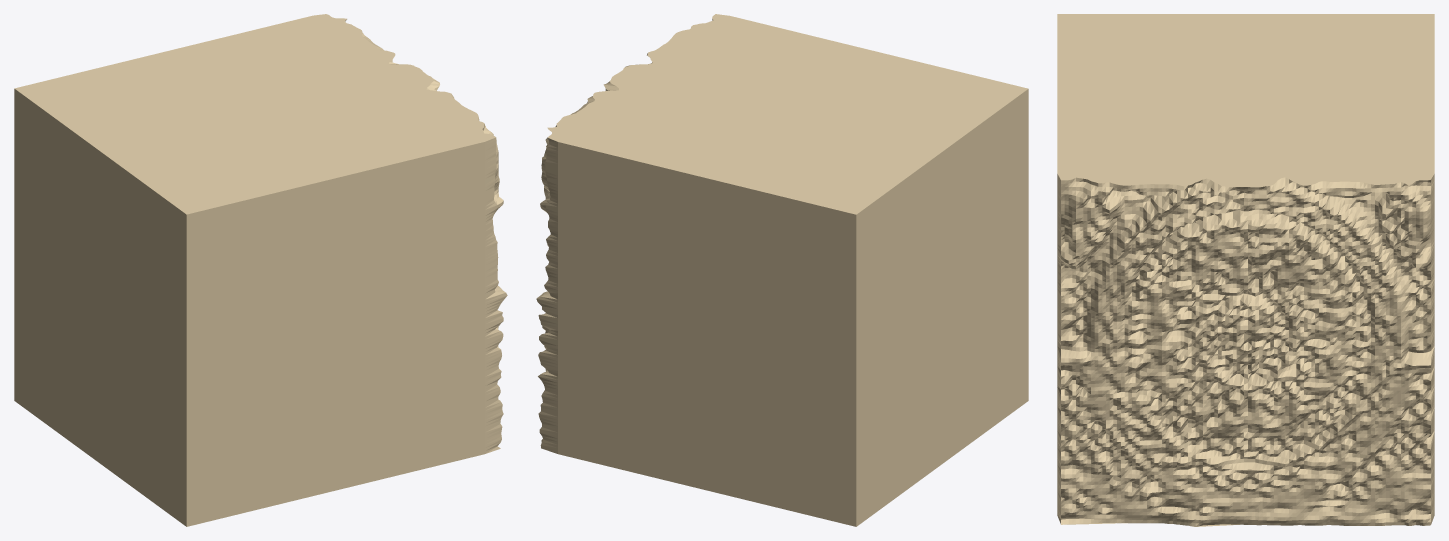
Rendered from bottom4.png - copia.obj.
3 views of the same model, side by side, from view 1: azimuth 30°, elevation 25°; view 2: azimuth 150°, elevation 25°; view 3: azimuth 270°, elevation 25° (orthographic). The views are drawn at different scales.
Visible parts, largest first — view 1: Cube; view 2: Cube; view 3: Cube.
Part boxes in pixels (x1,y1,x2,y2): Cube: (14, 14, 507, 526); Cube: (536, 14, 1028, 526); Cube: (1057, 14, 1434, 526).
Size of the model in its own units: 1.1 by 1 by 1.
